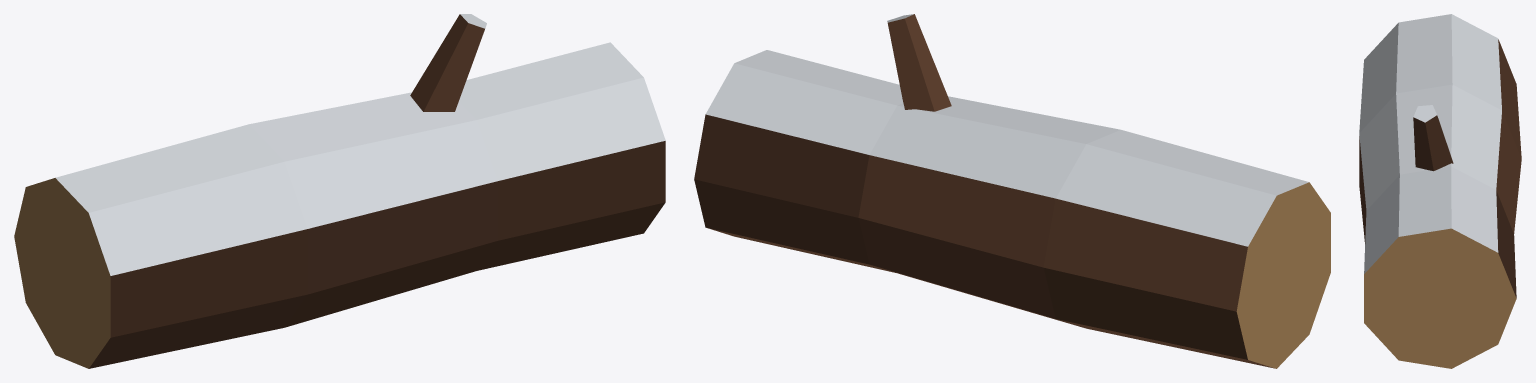
The model's file is Log_Snowy.glb.
3 renders of one model, left to right at view 1: azimuth 30°, elevation 25°; view 2: azimuth 150°, elevation 25°; view 3: azimuth 270°, elevation 25°, orthographic. The views are drawn at different scales.
Parts seen in each view (by area): view 1: Log_Snowy; view 2: Log_Snowy; view 3: Log_Snowy.
Boxes of the visible parts, box(x1,y1,x2,y2) form: Log_Snowy: box(14, 14, 665, 368); Log_Snowy: box(694, 14, 1330, 368); Log_Snowy: box(1359, 14, 1521, 368).
Bounding box in the file's own units: 4 × 1.79 × 1.28.
